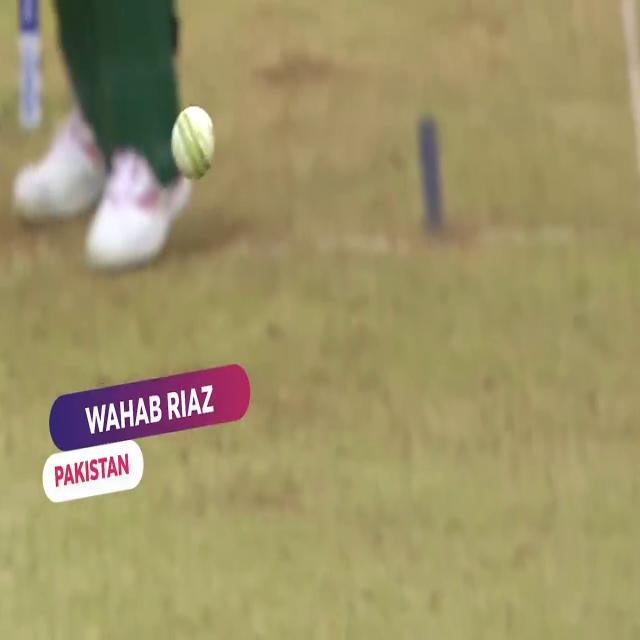ball: (168, 98, 218, 186)
